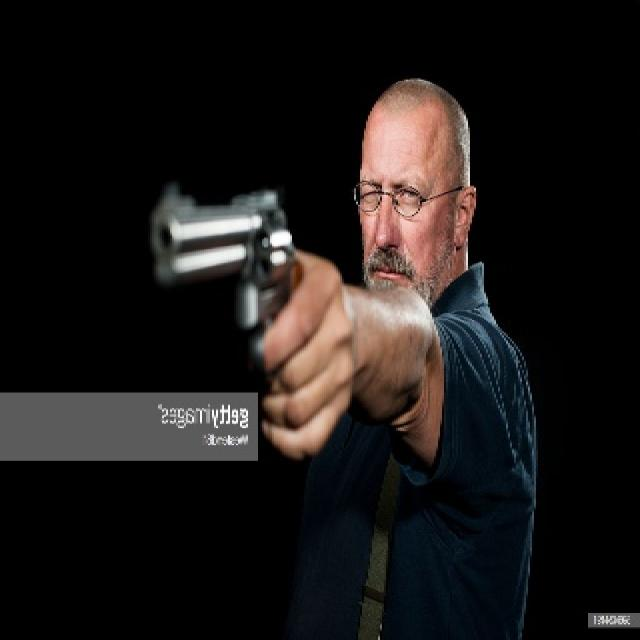handgun: (157, 183, 299, 367)
